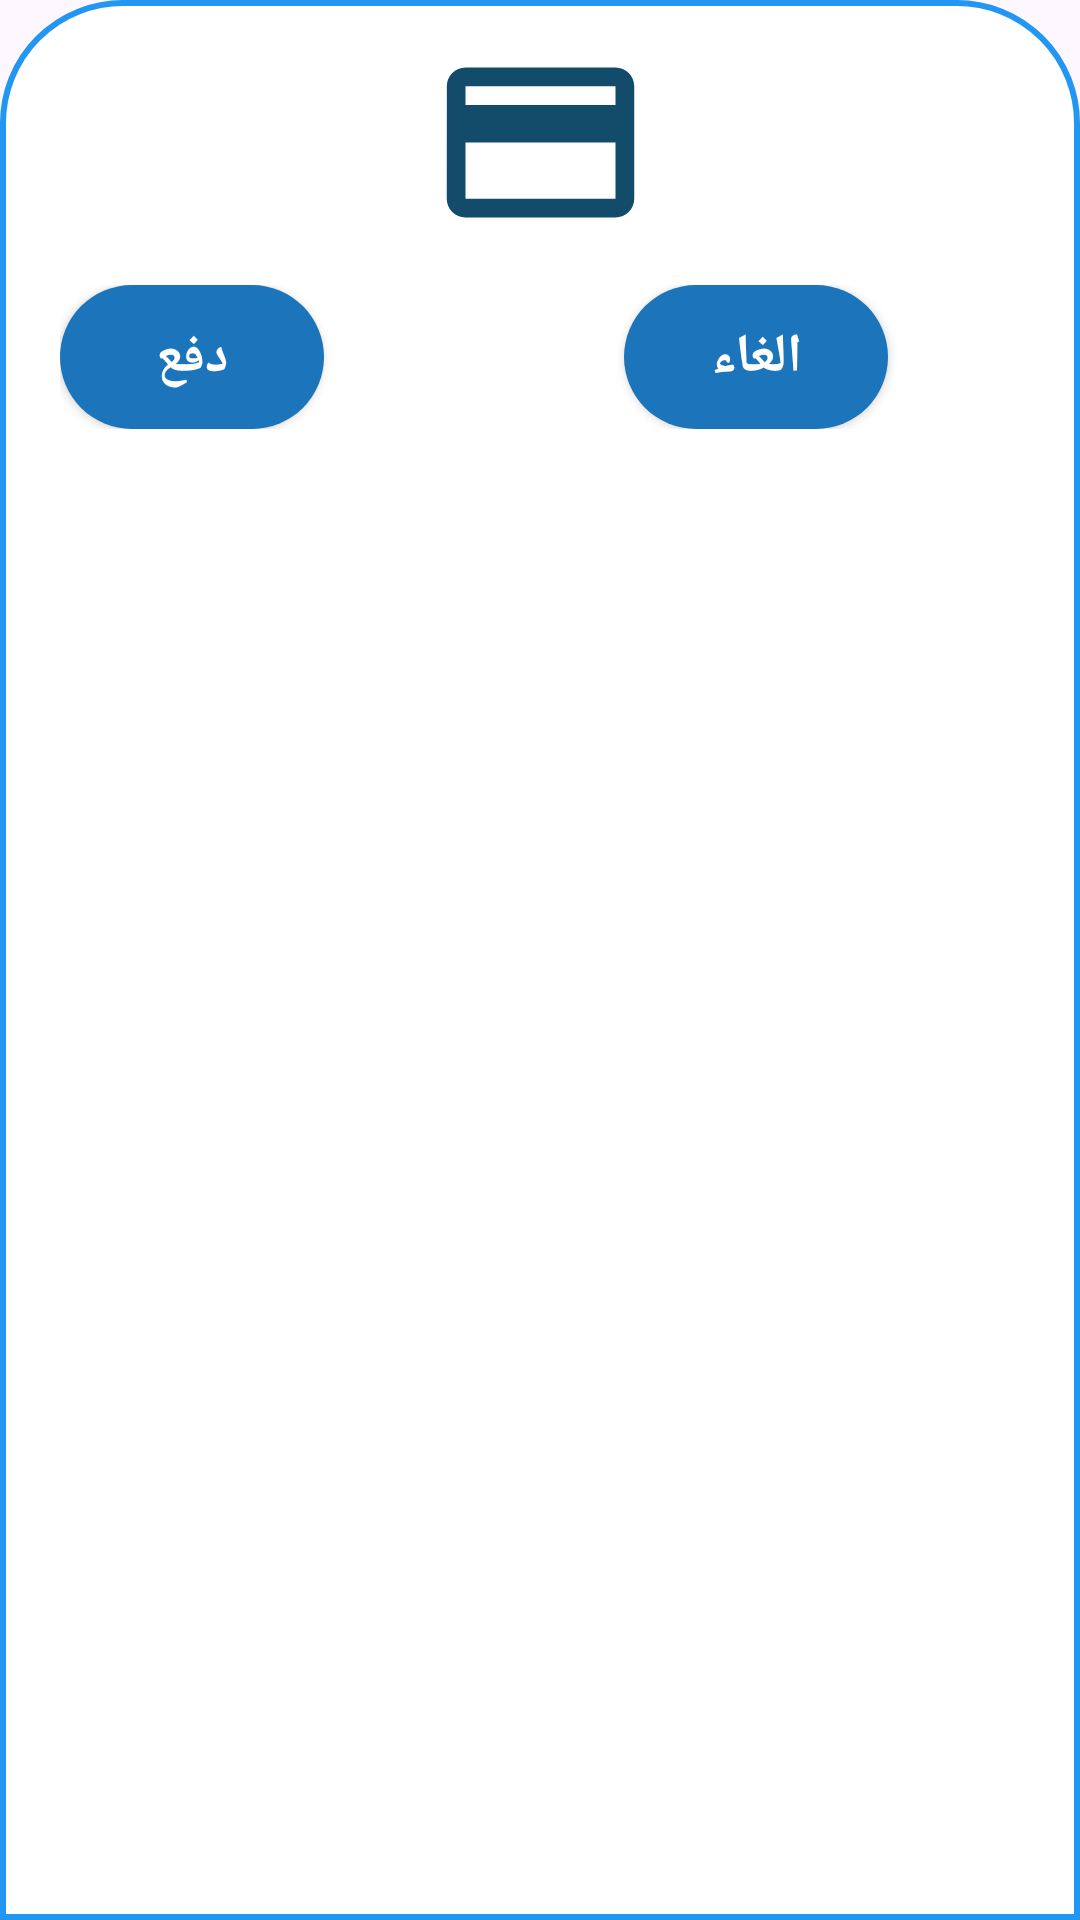

Icons on this 1080 x 1920 Android screen, each with the point to tap as (x,y):
payment: (540,142)
